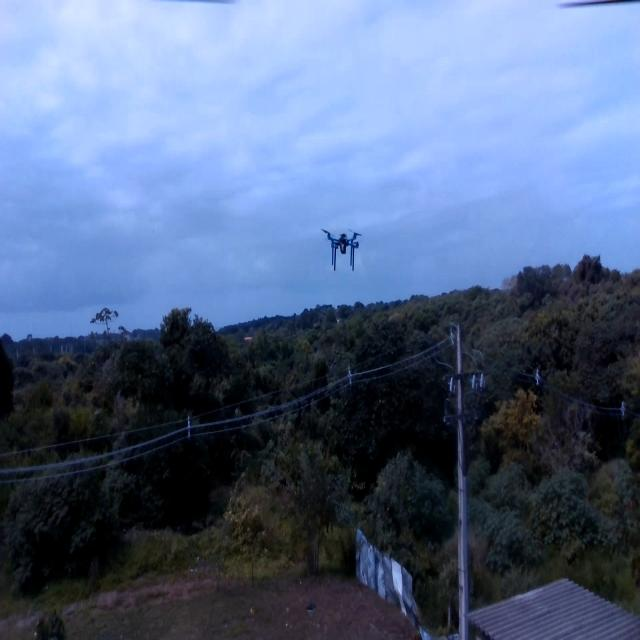-uav-: (316, 210, 366, 276)
